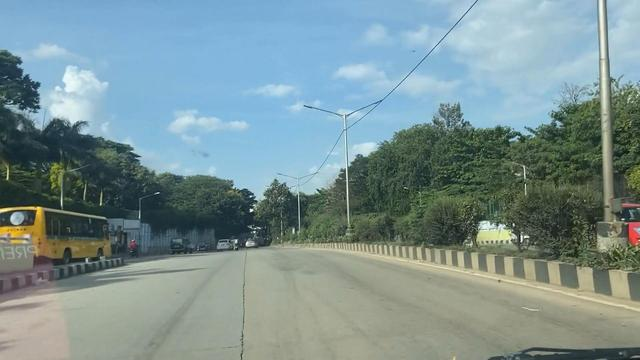RoadDamages: (210, 304, 268, 358), (225, 258, 259, 300)
